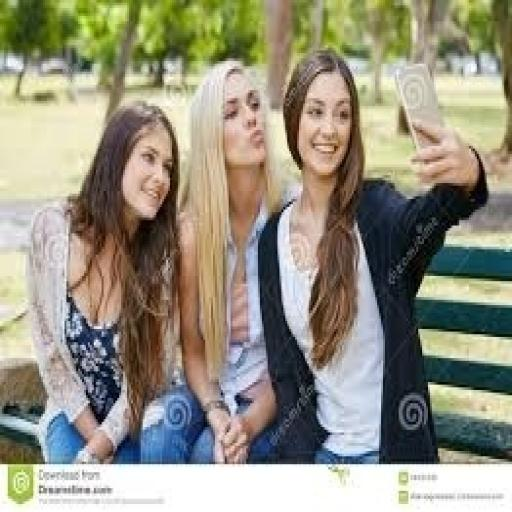sitting: (248, 45, 489, 464), (139, 56, 299, 464), (24, 98, 186, 464)
